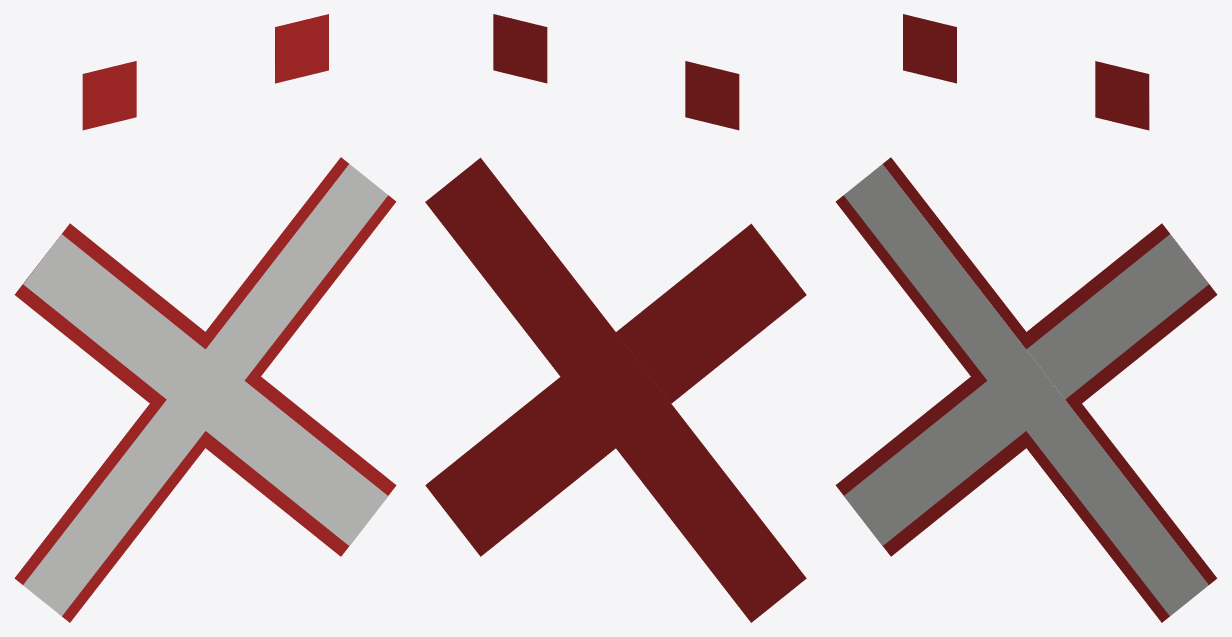
File: G1bbis.glb
The picture shows the model from 3 angles, left to right: view 1: azimuth 30°, elevation 25°; view 2: azimuth 150°, elevation 25°; view 3: azimuth 330°, elevation 25°; orthographic projection.
Visible parts, largest first — view 1: G1bbis_bras03, G1bbis_bras02, G1bbis_bras01, G1bbis_bras00, G1bbis_feu04, G1bbis_feu05; view 2: G1bbis_bras00, G1bbis_bras01, G1bbis_feu05, G1bbis_feu04; view 3: G1bbis_bras03, G1bbis_bras02, G1bbis_bras01, G1bbis_bras00, G1bbis_feu05, G1bbis_feu04.
Part boxes in pixels (x1,y1,x2,y2): G1bbis_bras03: [23, 234, 388, 545]; G1bbis_bras02: [23, 164, 387, 615]; G1bbis_bras01: [14, 223, 396, 556]; G1bbis_bras00: [14, 157, 396, 622]; G1bbis_feu04: [82, 61, 136, 130]; G1bbis_feu05: [275, 14, 328, 83]; G1bbis_bras00: [425, 157, 806, 622]; G1bbis_bras01: [425, 223, 806, 556]; G1bbis_feu05: [493, 14, 547, 83]; G1bbis_feu04: [685, 61, 739, 130]; G1bbis_bras03: [843, 164, 1208, 615]; G1bbis_bras02: [844, 234, 1208, 545]; G1bbis_bras01: [835, 157, 1217, 622]; G1bbis_bras00: [835, 223, 1217, 556]; G1bbis_feu05: [1095, 61, 1149, 130]; G1bbis_feu04: [903, 14, 956, 83].
Bounding box in the file's own units: 0.9928 × 1.36 × 0.0024.
